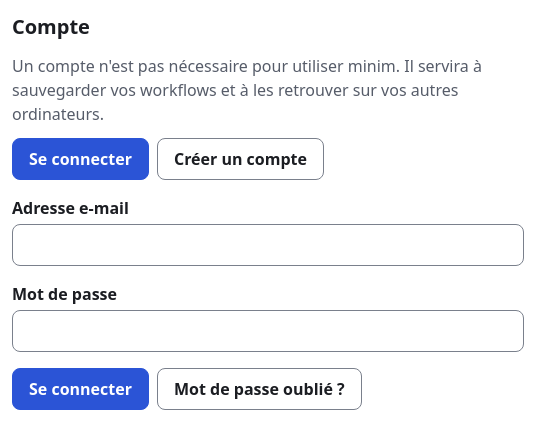
Test case: AccountPanel › signs in
The image size is (544, 427).
Type "alice@example.com" into the field labelled "Adresse e-mail" at (268, 245), box [12,224,524,266]
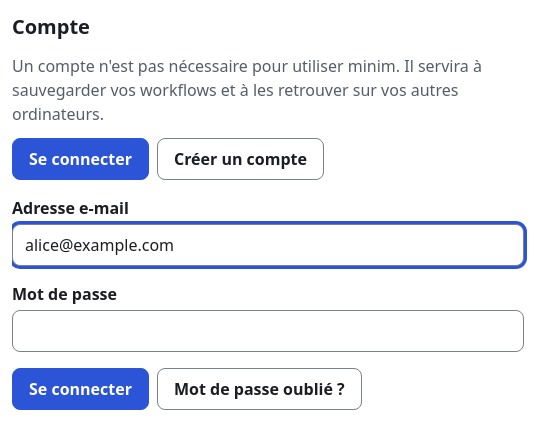
Type "correct horse" into the password field labelled "Mot de passe" at (268, 331), box [12,310,524,352]
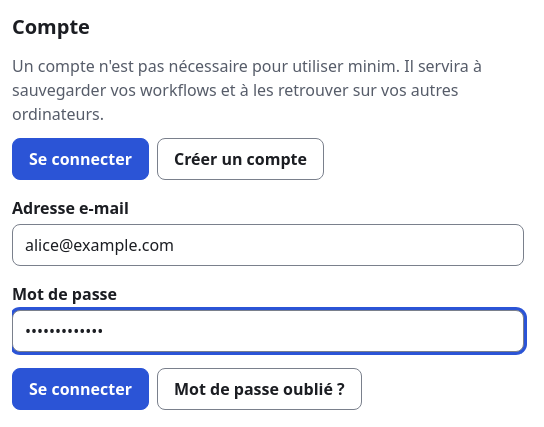
Click the button "Se connecter" below "Adresse e-mail" at (80, 389), box [12,368,149,410]
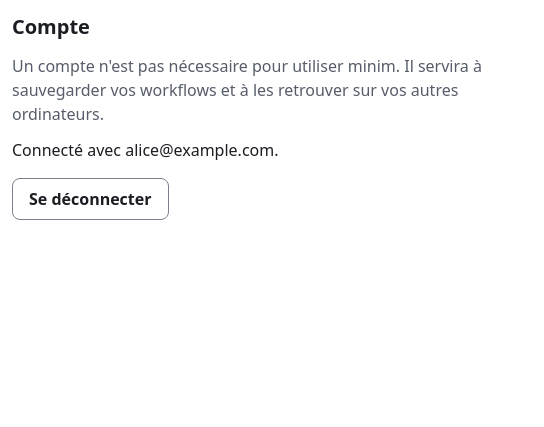
Expected: the text "Connecté avec alice@example.com." is shown, [12,139,278,161]
